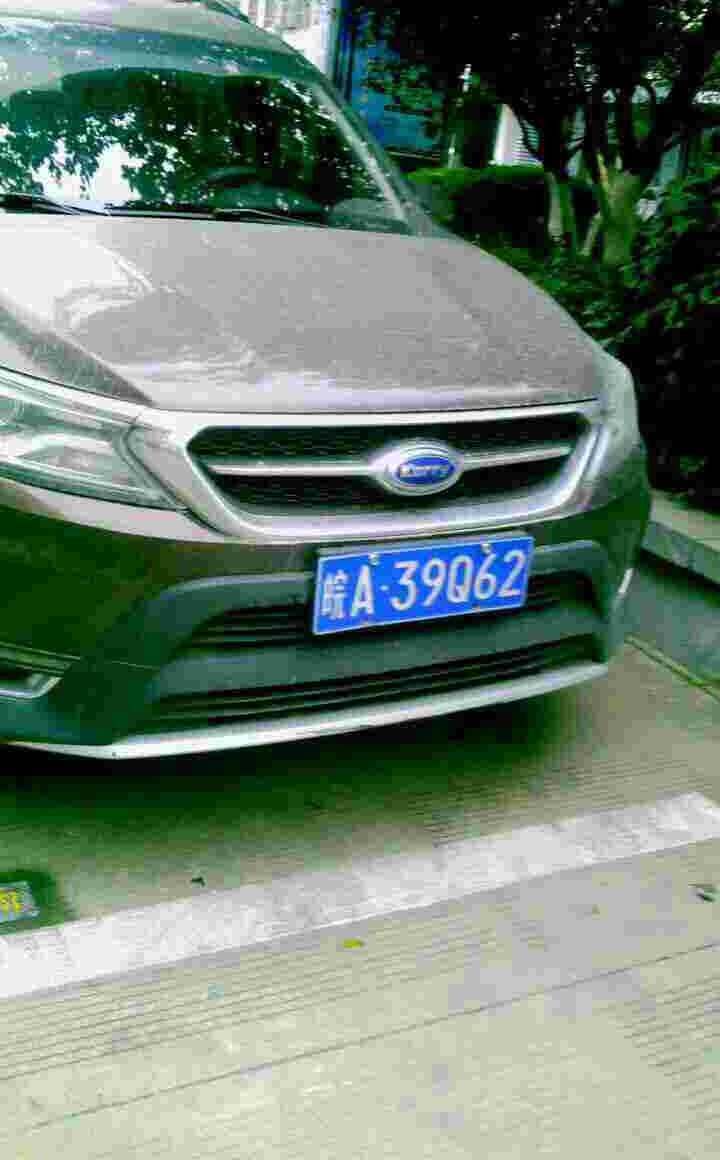license_plate: (319, 539, 541, 642)
